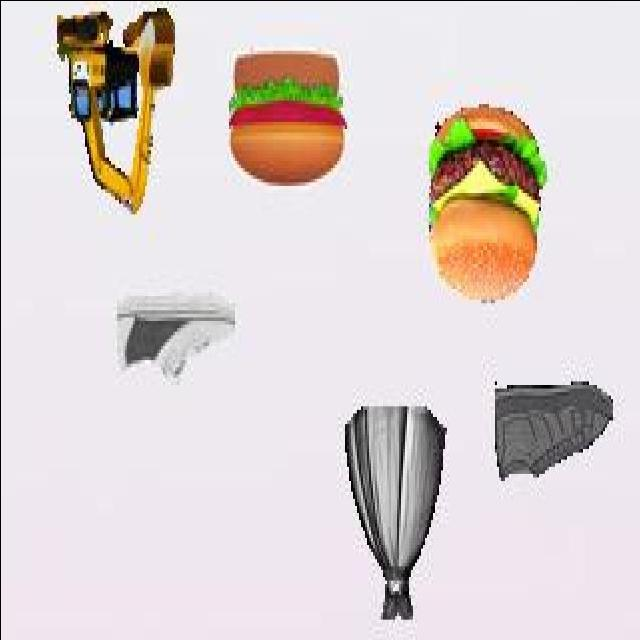Other Objects: (428, 104, 548, 300), (344, 405, 446, 621), (227, 51, 347, 187), (493, 378, 615, 481), (114, 292, 236, 384)
